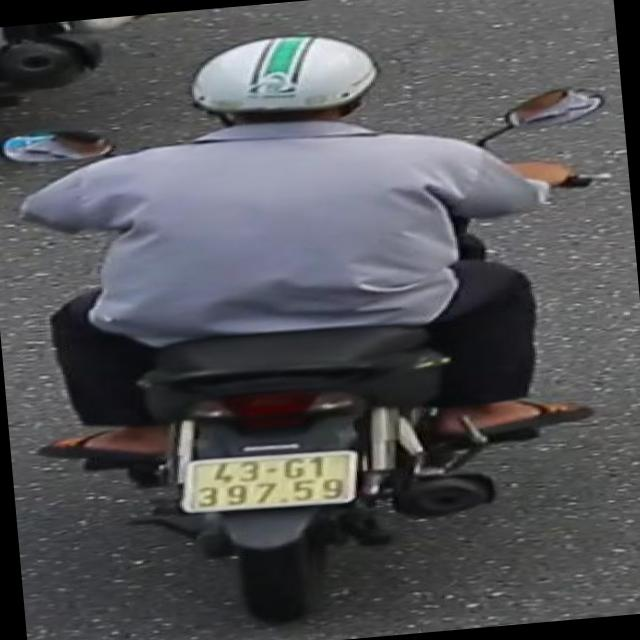LP: (178, 443, 366, 522)
helmet: (177, 22, 389, 152)
